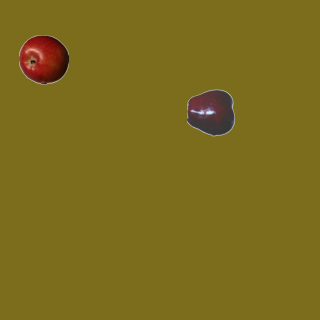Apple Braeburn: (18, 34, 68, 84)
Apple Red Delicious: (186, 87, 236, 137)
